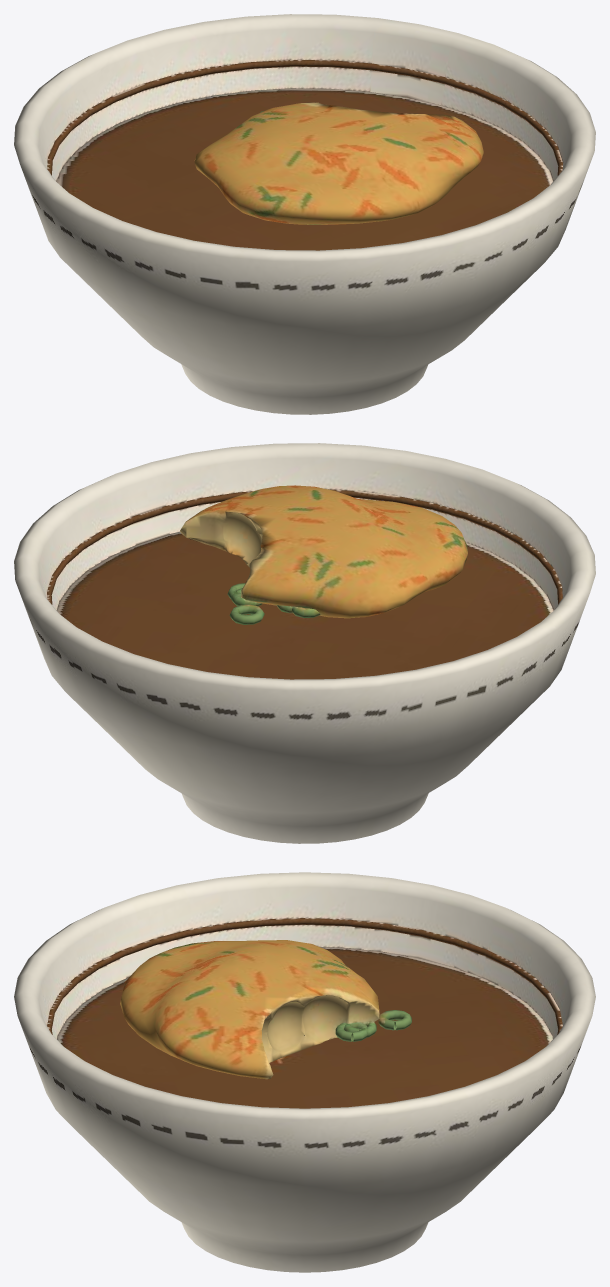
File: soba_nn1.glb
3 views of the same model, one above another, from view 1: azimuth 30°, elevation 25°; view 2: azimuth 150°, elevation 25°; view 3: azimuth 270°, elevation 25° (orthographic).
Parts seen in each view (by area): view 1: prop_soba_nn1_felt; view 2: prop_soba_nn1_felt; view 3: prop_soba_nn1_felt.
Boxes of the visible parts, bbox=[...] form: prop_soba_nn1_felt: bbox=[14, 14, 595, 414]; prop_soba_nn1_felt: bbox=[14, 443, 595, 843]; prop_soba_nn1_felt: bbox=[14, 872, 595, 1272].
Bounding box in the file's own units: 0.3 × 0.1437 × 0.3.
Materials: 1 (1 with a texture image).
